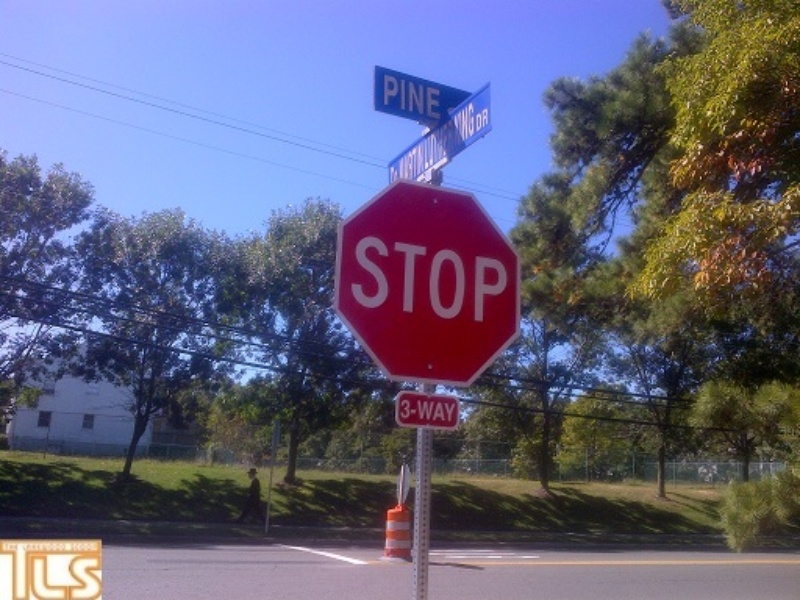stop sign: (331, 176, 524, 390)
